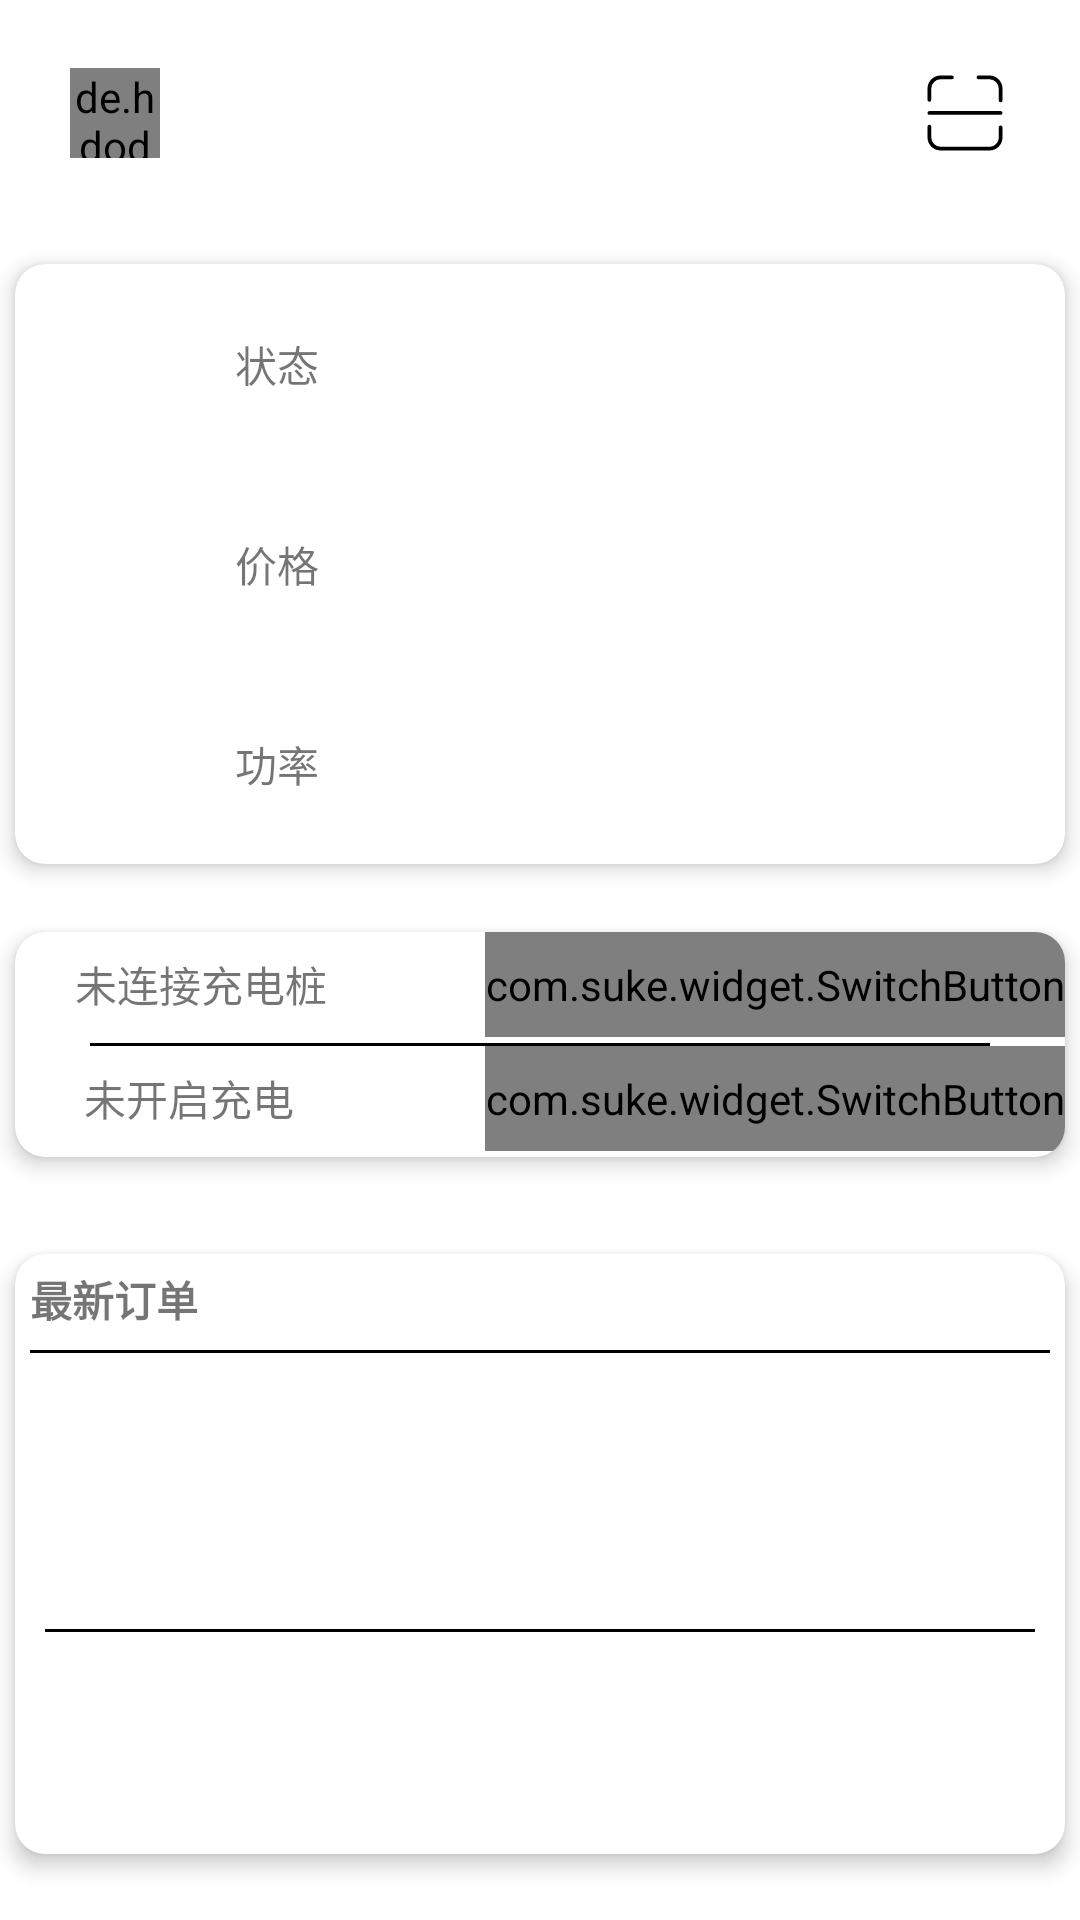

Locate icon controls on the screen. Image size 1080px×1920px, boxes as BBox(x1, y1, x2, y2).
scan: BBox(927, 75, 1003, 151)
